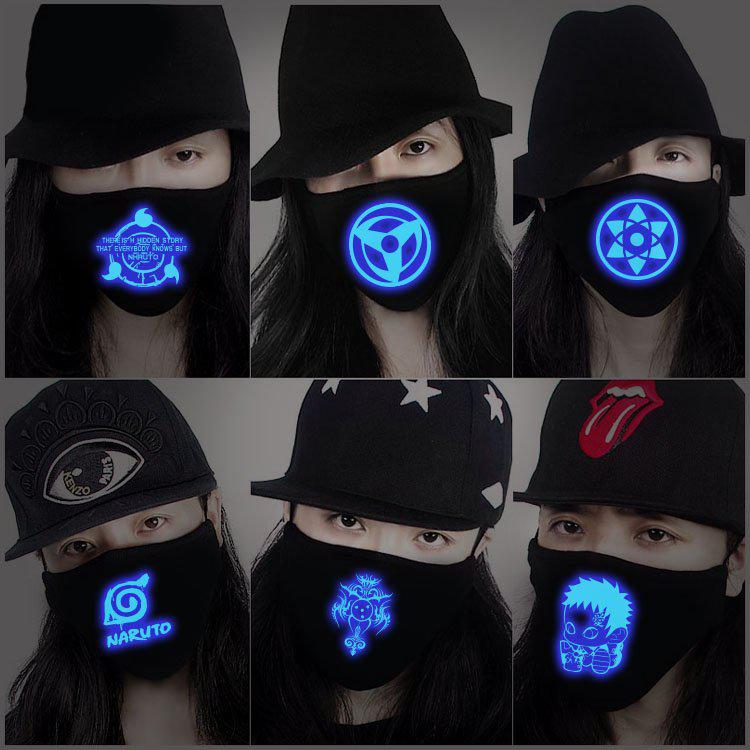OK: (285, 473, 504, 692), (526, 495, 741, 710), (49, 113, 252, 316), (551, 119, 745, 313), (26, 486, 219, 679), (301, 117, 492, 308)
